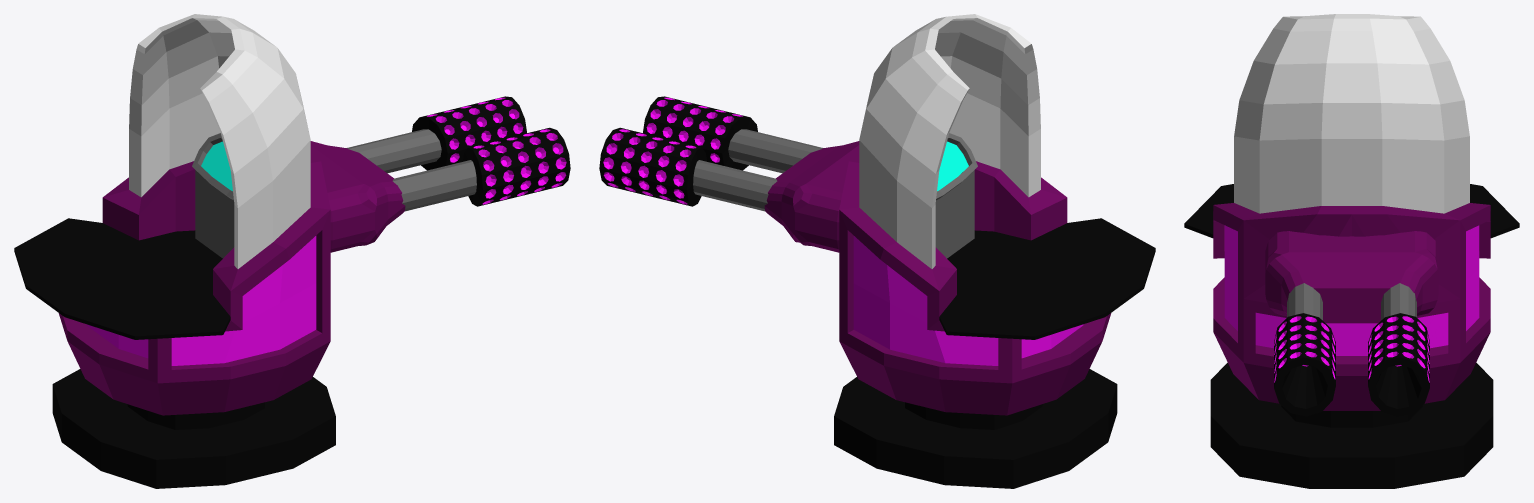
File: Turret.glb
3 views of the same model, side by side, from view 1: azimuth 30°, elevation 25°; view 2: azimuth 150°, elevation 25°; view 3: azimuth 270°, elevation 25° (orthographic). The views are drawn at different scales.
Parts seen in each view (by area): view 1: Turret Body, Right Barrel, Left Barrel, Turret Gun; view 2: Turret Body, Left Barrel, Right Barrel, Turret Gun; view 3: Turret Body, Turret Gun, Left Barrel, Right Barrel.
Part boxes in pixels (box(x1,y1,x2,y2)): Turret Body: box(14, 14, 335, 488); Right Barrel: box(392, 127, 570, 211); Left Barrel: box(346, 96, 526, 173); Turret Gun: box(310, 141, 405, 252); Turret Body: box(834, 14, 1155, 488); Left Barrel: box(599, 127, 777, 211); Right Barrel: box(643, 96, 823, 173); Turret Gun: box(764, 141, 859, 252); Turret Body: box(1184, 14, 1519, 488); Turret Gun: box(1265, 231, 1438, 322); Left Barrel: box(1368, 283, 1429, 416); Right Barrel: box(1274, 283, 1335, 416).
Size of the model in its own units: 4.41 by 3.43 by 2.42.
